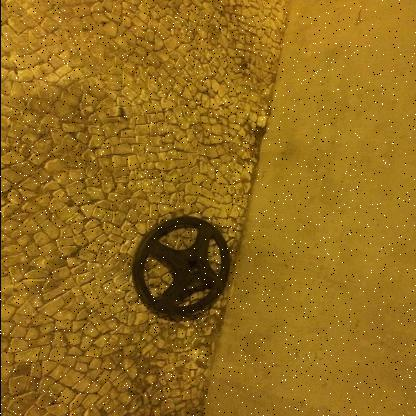other: (132, 216, 230, 316)
